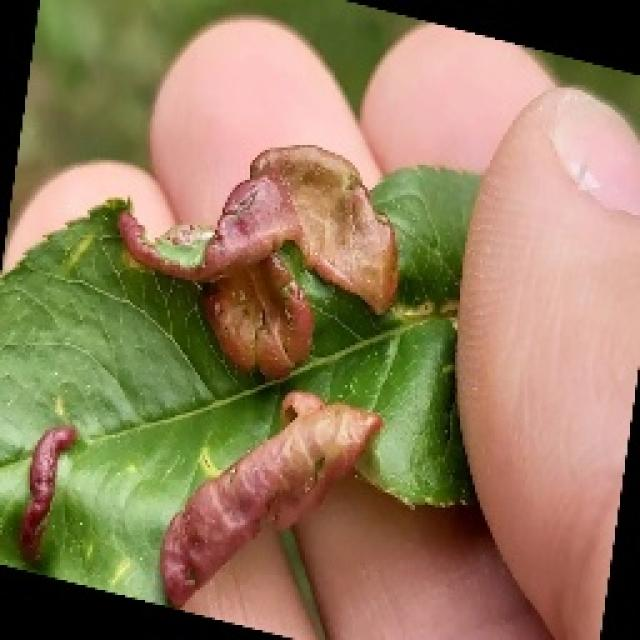peach_leaf_curl: (113, 153, 467, 625)
